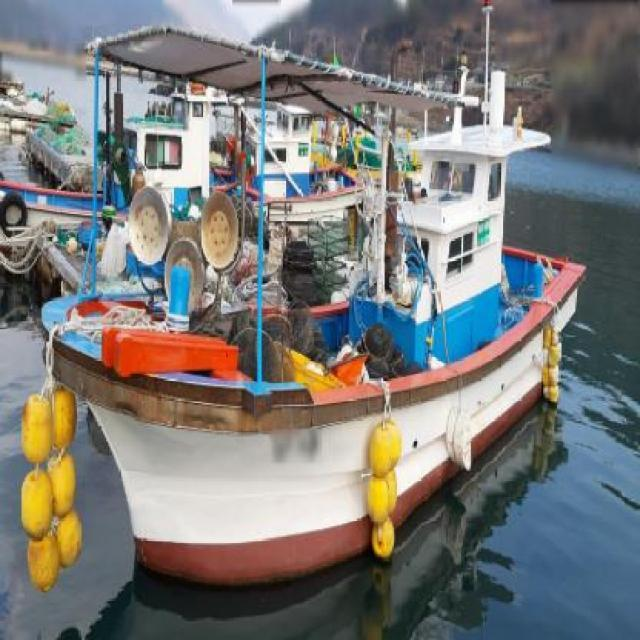Ship: (27, 3, 593, 602)
